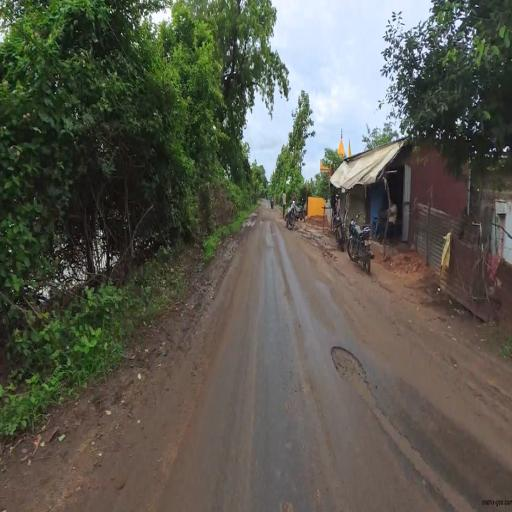pothole: (323, 321, 477, 512)
